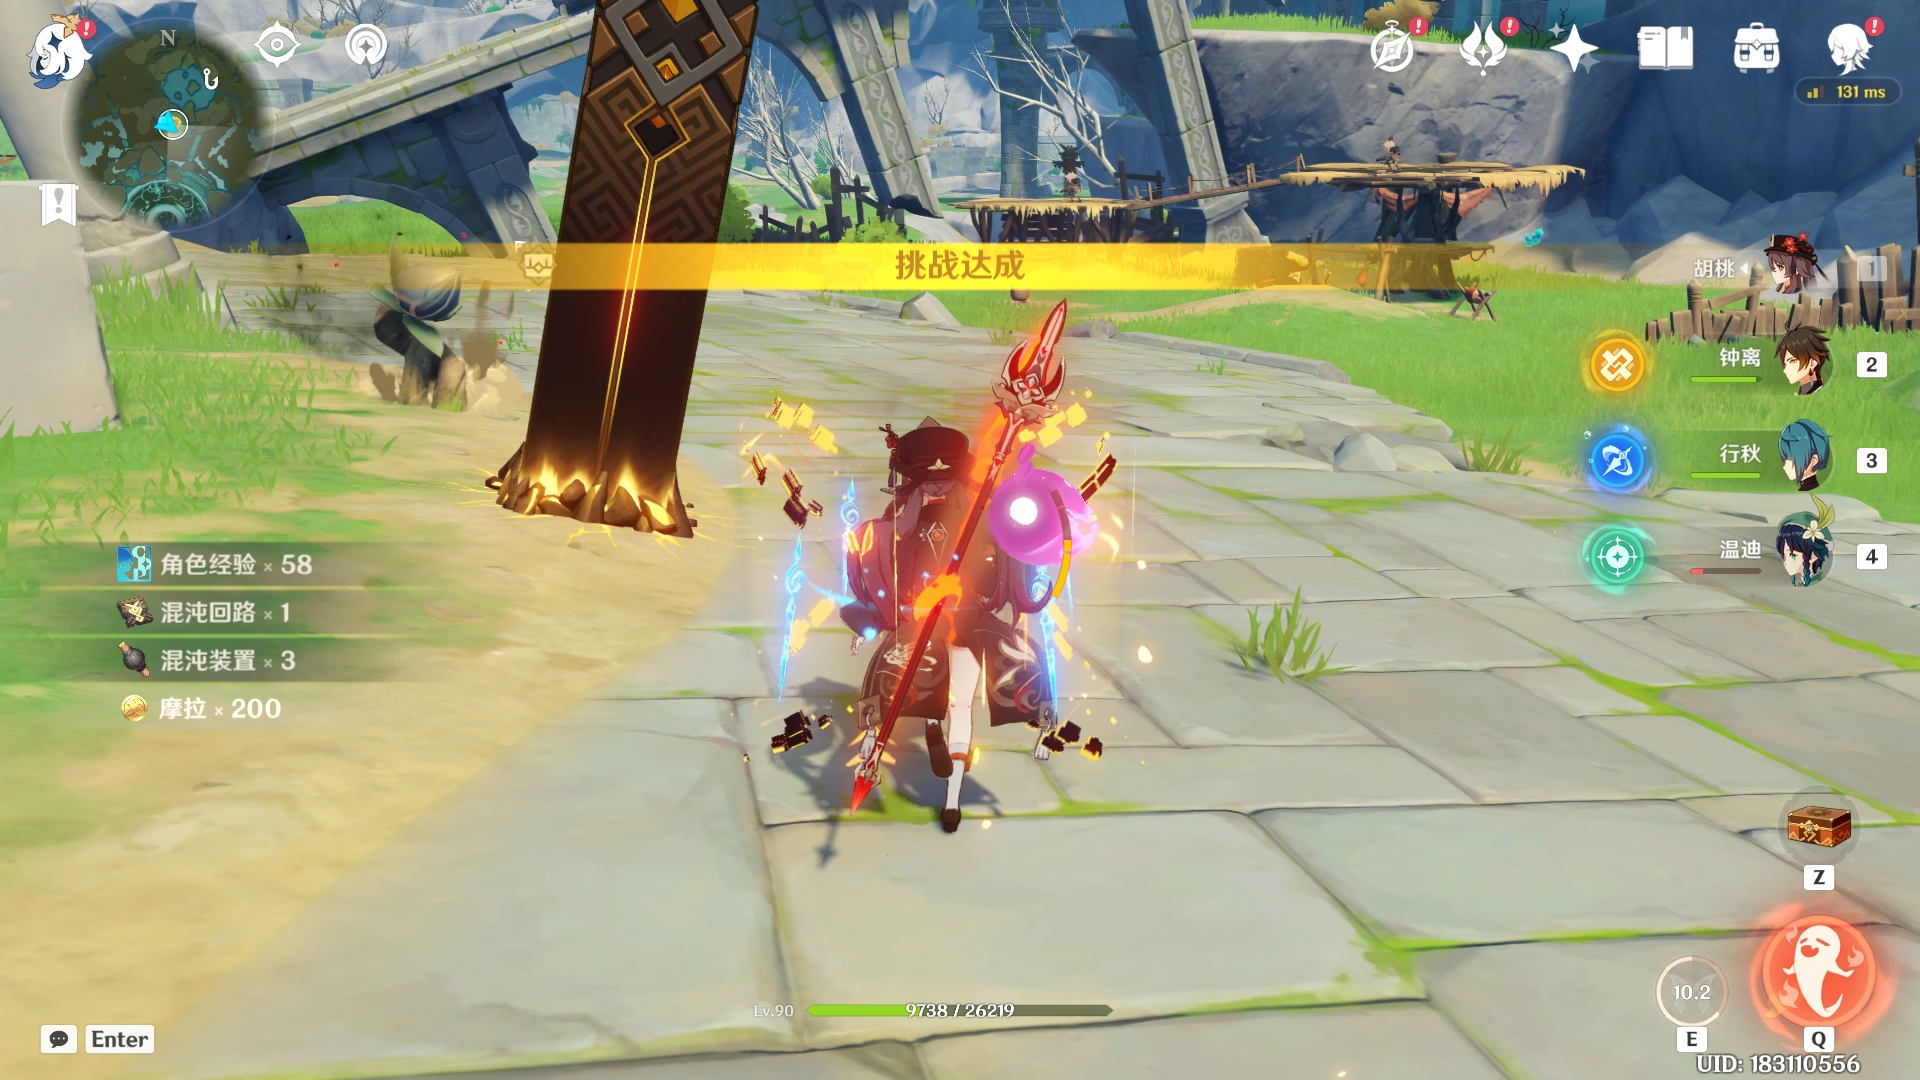character: (804, 410, 1073, 845)
hili: (1357, 131, 1414, 173), (1051, 160, 1091, 198)
